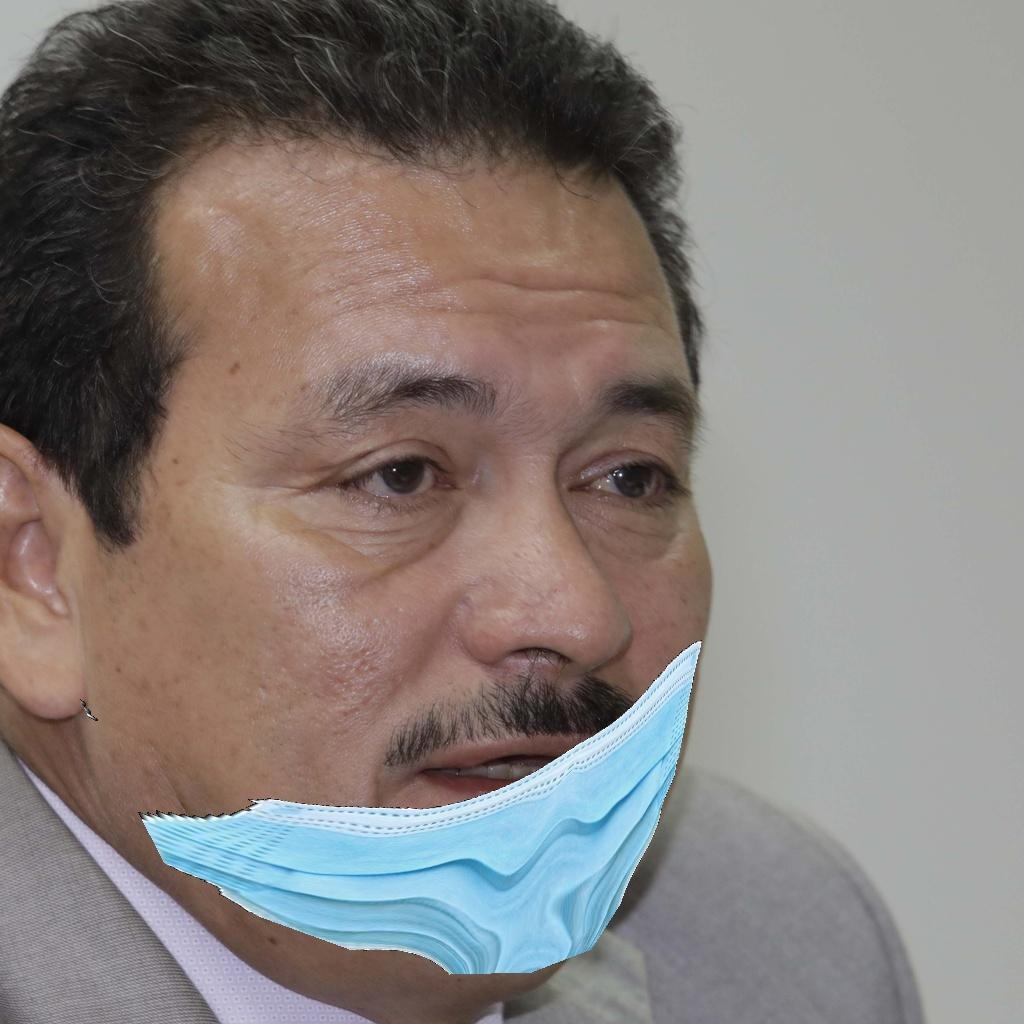Máscara Incorreta: (92, 168, 758, 996)
